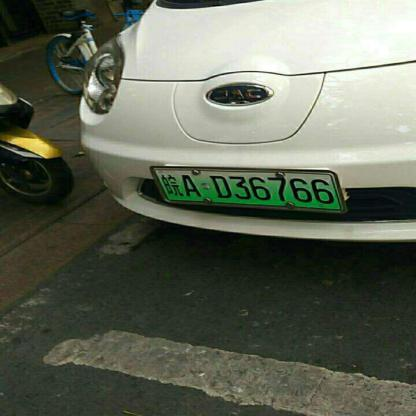lp: (155, 169, 340, 207)
